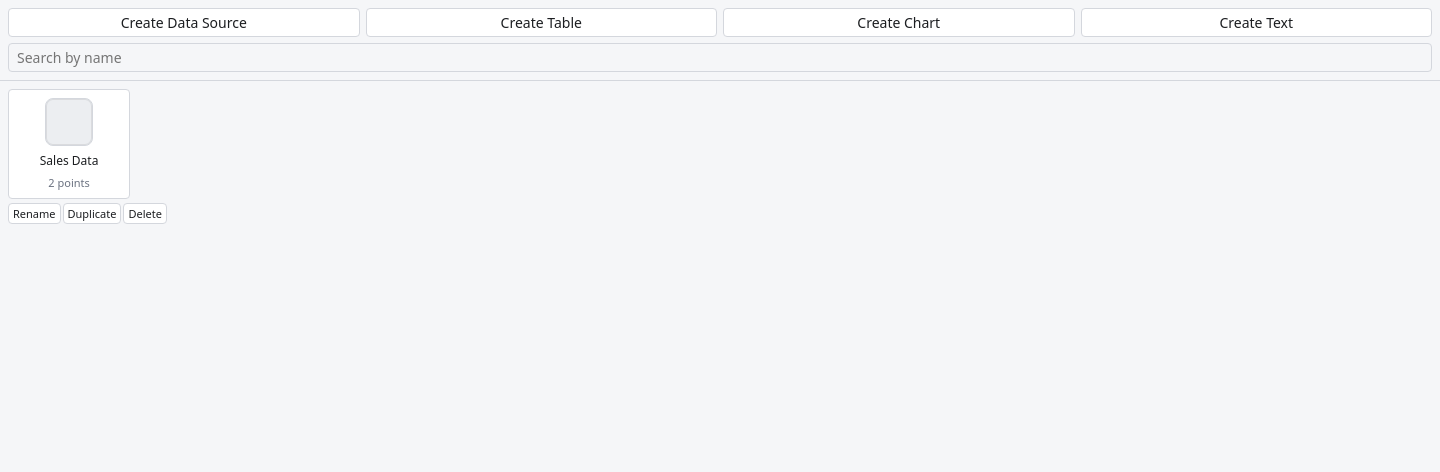
Test: DataSourcesPanel grid › shows no-match message when search filters everything
Check: the button with aria-label "Select Sales Data" is shown, box x1=8 y1=89 x2=130 y2=199
Type "zzz" into the search field named "Search data sources" at (720,58), box x1=8 y1=43 x2=1432 y2=72
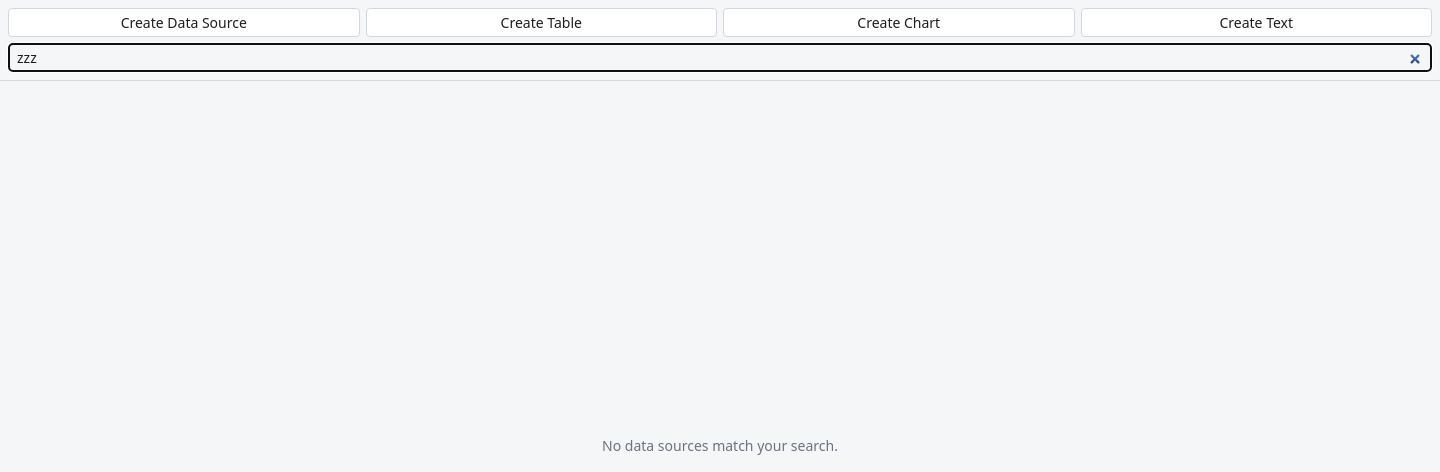
Check: the text "No data sources match your search." is shown, box x1=602 y1=436 x2=838 y2=455
